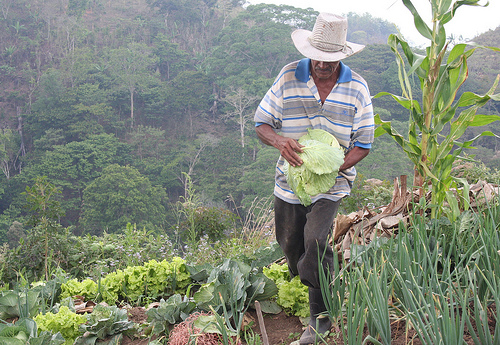cabbage: (286, 129, 344, 204)
